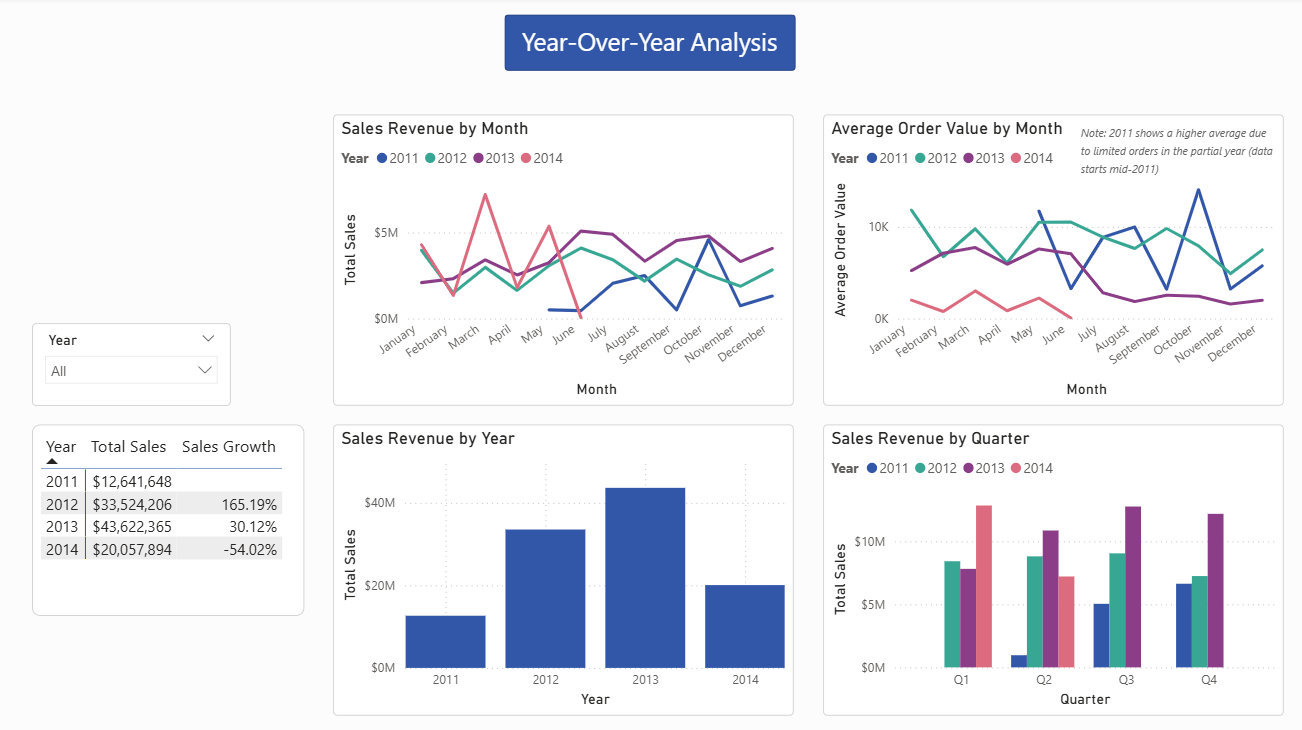

Layout of this report page (visuals, bound fields, positions):
{"tool":"powerbi","page":{"name":"Seasonal & Year-over-Year Analysis","canvas":[1280,720],"ordinal":3},"visuals":[{"type":"lineChart","title":"Average Order Value by Month","fields":{"Category":["DimDate.MonthName"],"Series":["DimDate.Year"],"Y":["FactSales.Average Order Value"]},"box":[808.3,114.9,450,284.9],"z":0},{"type":"clusteredColumnChart","title":"Sales Revenue by Year","fields":{"Category":["DimDate.Year"],"Y":["FactSales.Total Sales"]},"box":[328.9,418.2,450,284.9],"z":1000},{"type":"lineChart","title":"Sales Revenue by Month","fields":{"Y":["FactSales.Total Sales"],"Category":["DimDate.MonthName"],"Series":["DimDate.Year"]},"box":[328.9,114.9,450,284.9],"z":2000},{"type":"slicer","fields":{"Values":["DimDate.Year"]},"box":[34.2,319.2,194.4,80.7],"z":3000},{"type":"clusteredColumnChart","title":"Sales Revenue by Quarter","fields":{"Category":["DimDate.QuarterName"],"Y":["FactSales.Total Sales"],"Series":["DimDate.Year"]},"box":[808.3,418.2,450,284.9],"z":4000},{"type":"pivotTable","fields":{"Rows":["DimDate.Year"],"Values":["FactSales.Total Sales","FactSales.Sales Growth"]},"box":[34.2,418.2,266.6,187.1],"z":5000},{"type":"textbox","box":[1055.3,117.4,201.8,68.5],"z":6000},{"type":"shape","box":[496.5,17.1,284.9,55],"z":7000,"group":"g1"},{"type":"textbox","box":[508.7,22,261.7,46.5],"z":8000,"group":"g1"},{"type":"group","id":"g1","title":"Group 1","box":[496.5,17.1,284.9,55],"z":8001}]}

Visuals, with their boxes in screenshot pixels (x1, y1, x2, y2), scaled from the page's 1280x720 canvas onto the 1302x730 screenshot:
"Average Order Value by Month" lineChart: box(822, 116, 1280, 405)
"Sales Revenue by Year" clusteredColumnChart: box(335, 424, 792, 713)
"Sales Revenue by Month" lineChart: box(335, 116, 792, 405)
slicer - DimDate.Year: box(35, 324, 233, 405)
"Sales Revenue by Quarter" clusteredColumnChart: box(822, 424, 1280, 713)
pivotTable - DimDate.Year x FactSales.Total Sales: box(35, 424, 306, 614)
textbox: box(1073, 119, 1279, 188)
shape: box(505, 17, 795, 73)
textbox: box(517, 22, 784, 69)
"Group 1" group: box(505, 17, 795, 73)
